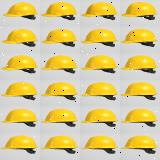Helmet: (121, 2, 160, 26), (2, 79, 41, 103), (82, 133, 118, 158), (0, 134, 39, 157), (1, 0, 38, 24), (1, 105, 38, 129), (0, 28, 40, 50), (42, 135, 80, 158), (42, 106, 78, 130), (41, 1, 78, 24), (43, 27, 78, 51), (43, 78, 78, 102), (82, 107, 120, 129), (82, 1, 118, 24), (122, 133, 158, 156), (1, 55, 38, 77), (81, 54, 118, 76), (82, 81, 119, 103), (82, 27, 119, 48), (123, 106, 157, 128), (121, 28, 158, 48), (122, 81, 156, 102), (42, 56, 78, 75), (122, 56, 160, 74)
